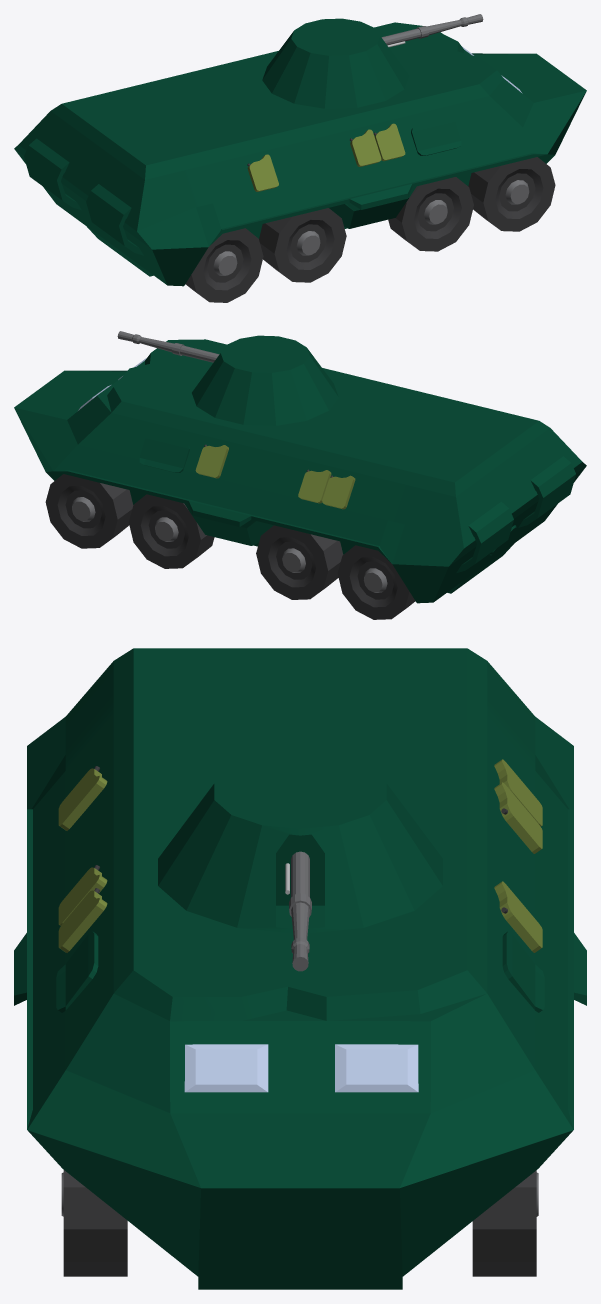
The model's file is Military BTR.fbx.
3 views of the same model, one above another, from view 1: azimuth 30°, elevation 25°; view 2: azimuth 150°, elevation 25°; view 3: azimuth 270°, elevation 25° (orthographic). The views are drawn at different scales.
Parts seen in each view (by area): view 1: Military_BTR; view 2: Military_BTR; view 3: Military_BTR.
Part boxes in pixels (x1=…): Military_BTR: x1=14, y1=14, x2=586, y2=302; Military_BTR: x1=14, y1=331, x2=586, y2=619; Military_BTR: x1=14, y1=648, x2=586, y2=1289.
Bounding box in the file's own units: 681 × 240 × 348.
